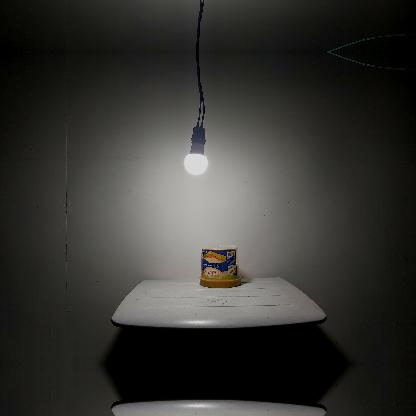Lady-s-Choice: (199, 243, 241, 287)
